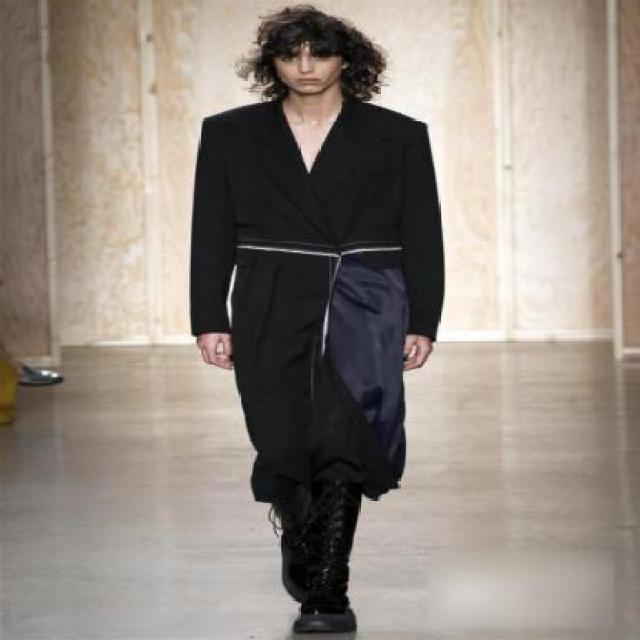Person: (190, 7, 458, 635)
